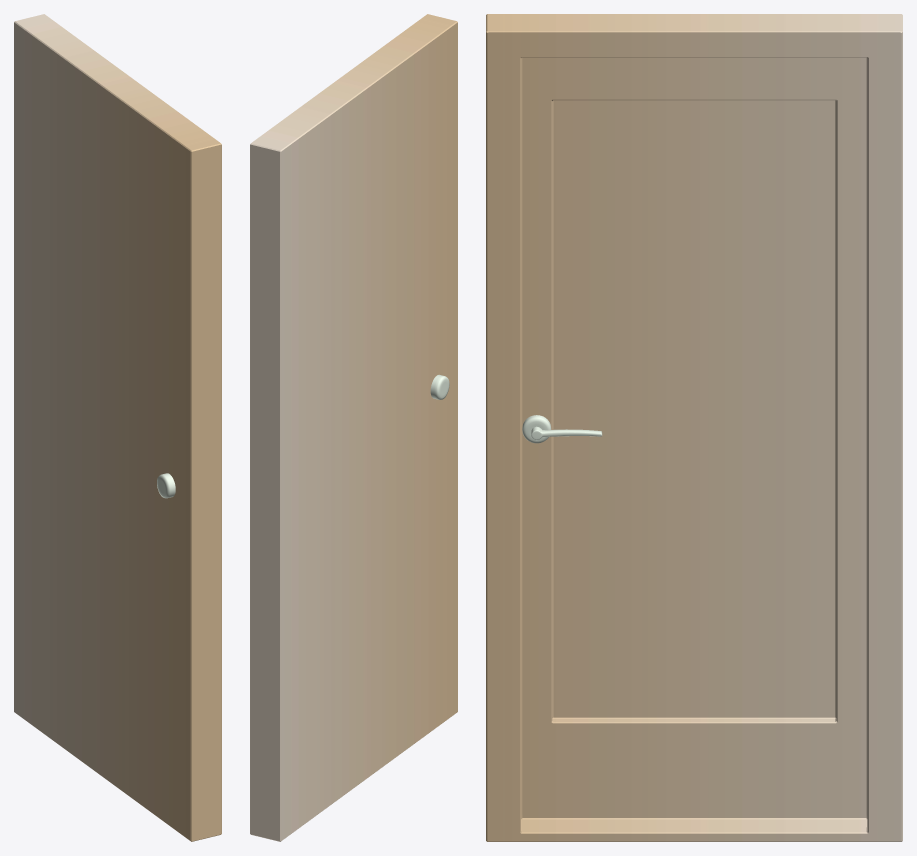
The model's file is door.fbx.
The picture shows the model from 3 angles, left to right: view 1: azimuth 30°, elevation 25°; view 2: azimuth 150°, elevation 25°; view 3: azimuth 270°, elevation 25°; orthographic projection. The views are drawn at different scales.
Visible parts, largest first — view 1: group1; view 2: group1; view 3: group1.
Boxes of the visible parts, x1=… form: group1: x1=14, y1=14, x2=221, y2=841; group1: x1=250, y1=14, x2=457, y2=841; group1: x1=486, y1=14, x2=902, y2=841.
Size of the model in its own units: 0.2905 by 4.96 by 2.31.
Materials: 1 (1 with a texture image).
